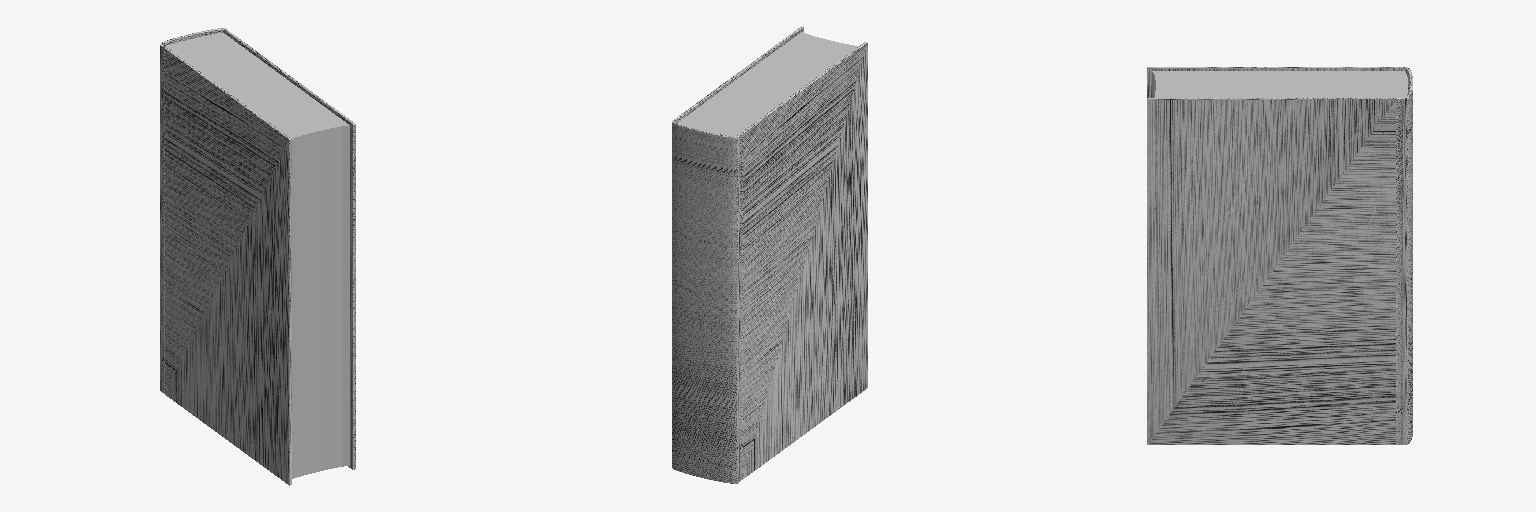
3 views of the same model, side by side, from view 1: azimuth 30°, elevation 25°; view 2: azimuth 150°, elevation 25°; view 3: azimuth 270°, elevation 25° (orthographic).
Parts seen in each view (by area): view 1: Line002, Box001; view 2: Line002, Box001; view 3: Line002, Box001.
Part boxes in pixels (bbox=[...]): Line002: bbox=[160, 28, 355, 485]; Box001: bbox=[166, 33, 349, 478]; Line002: bbox=[672, 26, 867, 483]; Box001: bbox=[678, 32, 858, 135]; Line002: bbox=[1147, 67, 1412, 444]; Box001: bbox=[1152, 71, 1407, 97].
Size of the model in its own units: 0.7211 by 3.6 by 2.51.
Materials: 2 (1 with a texture image).